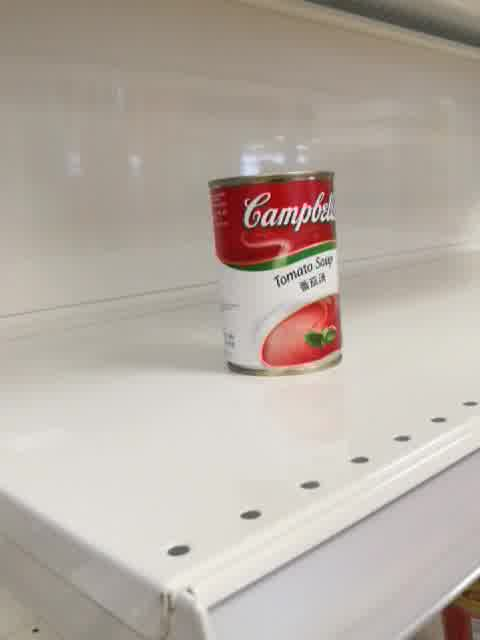tomatosoup: (207, 168, 344, 379)
